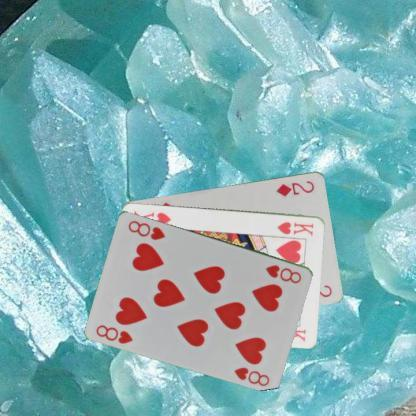2d: (274, 178, 316, 198)
8h: (94, 322, 134, 345), (263, 262, 303, 284)
Kh: (275, 218, 315, 236)
